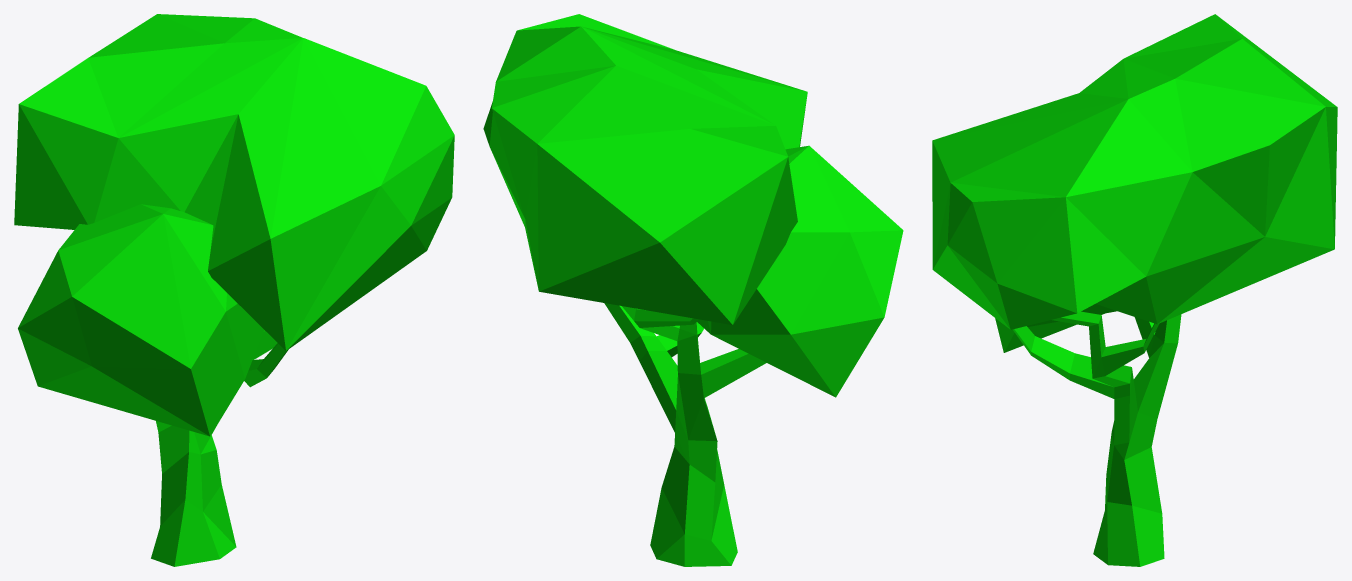
File: postprocess_test_fbx.fbx
3 views of the same model, side by side, from view 1: azimuth 30°, elevation 25°; view 2: azimuth 150°, elevation 25°; view 3: azimuth 270°, elevation 25° (orthographic). The views are drawn at different scales.
Parts seen in each view (by area): view 1: polySurface2, polySurface1; view 2: polySurface2, polySurface1; view 3: polySurface2, polySurface1.
Part boxes in pixels (left/top/right/bottom): polySurface2: left=14, top=14, right=454, bottom=436; polySurface1: left=151, top=330, right=288, bottom=566; polySurface2: left=483, top=14, right=903, bottom=397; polySurface1: left=604, top=303, right=766, bottom=566; polySurface2: left=932, top=14, right=1337, bottom=352; polySurface1: left=1012, top=311, right=1181, bottom=566.
Bounding box in the file's own units: 11.25 × 12.75 × 9.21.
